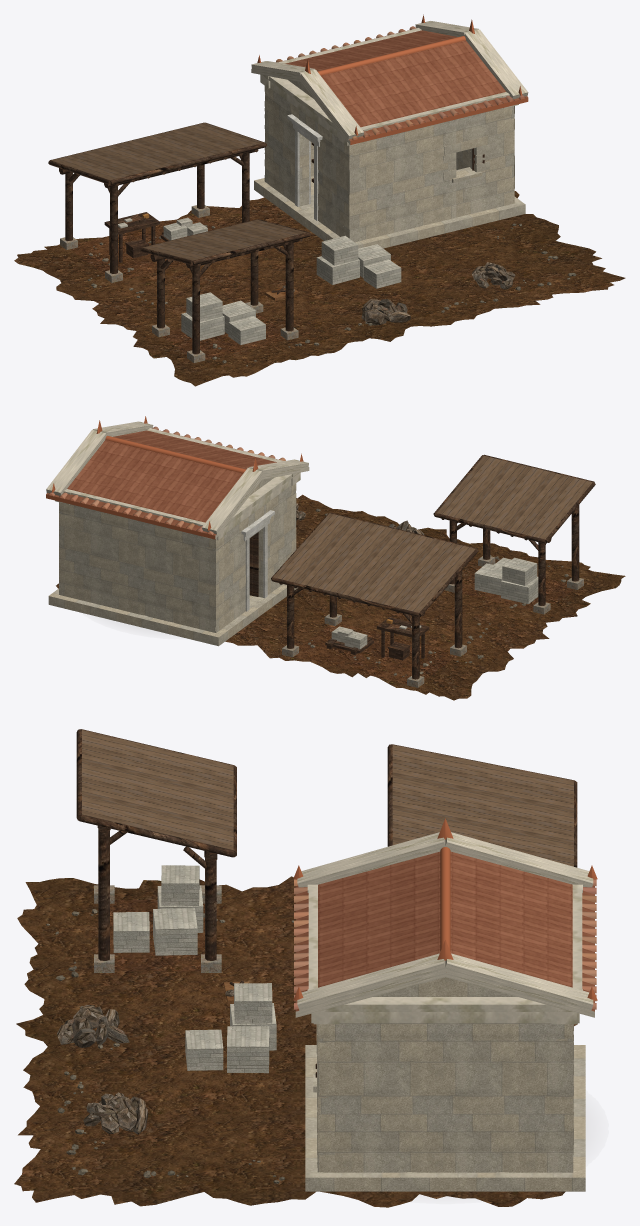
The model's file is mason@2.glb.
3 views of the same model, one above another, from view 1: azimuth 30°, elevation 25°; view 2: azimuth 150°, elevation 25°; view 3: azimuth 270°, elevation 25° (orthographic). The views are drawn at different scales.
Parts seen in each view (by area): view 1: part_1, part_4, part_19, part_5, part_9, part_18, part_13, part_7, part_20, part_15, part_6, part_8 (+2 smaller); view 2: part_4, part_9, part_1, part_19, part_5, part_18, part_7, part_13, part_20, part_8, part_6, part_21; view 3: part_1, part_4, part_9, part_19, part_18, part_13, part_5, part_15, part_7, part_21, part_20, part_8 (+1 smaller).
Boxes of the visible parts, x1=… form: part_1: x1=14, y1=191, x2=625, y2=386; part_4: x1=254, y1=80, x2=525, y2=248; part_19: x1=284, y1=30, x2=527, y2=140; part_5: x1=48, y1=122, x2=484, y2=354; part_9: x1=51, y1=123, x2=306, y2=260; part_18: x1=251, y1=21, x2=528, y2=145; part_13: x1=118, y1=217, x2=401, y2=344; part_7: x1=70, y1=215, x2=286, y2=359; part_20: x1=257, y1=14, x2=528, y2=144; part_15: x1=282, y1=262, x2=515, y2=325; part_6: x1=287, y1=114, x2=322, y2=220; part_8: x1=60, y1=205, x2=298, y2=362; part_4: x1=48, y1=477, x2=297, y2=646; part_9: x1=273, y1=456, x2=592, y2=612; part_1: x1=56, y1=494, x2=625, y2=700; part_19: x1=46, y1=430, x2=276, y2=535; part_5: x1=249, y1=454, x2=595, y2=679; part_18: x1=46, y1=421, x2=309, y2=540; part_7: x1=294, y1=573, x2=573, y2=684; part_13: x1=331, y1=557, x2=538, y2=649; part_20: x1=46, y1=416, x2=303, y2=539; part_8: x1=282, y1=556, x2=583, y2=687; part_6: x1=241, y1=510, x2=274, y2=611; part_21: x1=48, y1=426, x2=285, y2=534; part_1: x1=14, y1=876, x2=577, y2=1207; part_4: x1=305, y1=977, x2=585, y2=1191; part_9: x1=82, y1=730, x2=573, y2=866; part_19: x1=295, y1=851, x2=594, y2=1011; part_18: x1=295, y1=832, x2=594, y2=1024; part_13: x1=113, y1=865, x2=276, y2=1073; part_5: x1=76, y1=729, x2=577, y2=1077; part_15: x1=57, y1=989, x2=233, y2=1134; part_7: x1=110, y1=900, x2=204, y2=971; part_21: x1=294, y1=879, x2=596, y2=1009; part_20: x1=293, y1=818, x2=597, y2=1000; part_8: x1=94, y1=885, x2=221, y2=972.
Bounding box in the file's own units: 9.24 × 3.26 × 7.13.
22 materials, 16 textured.
